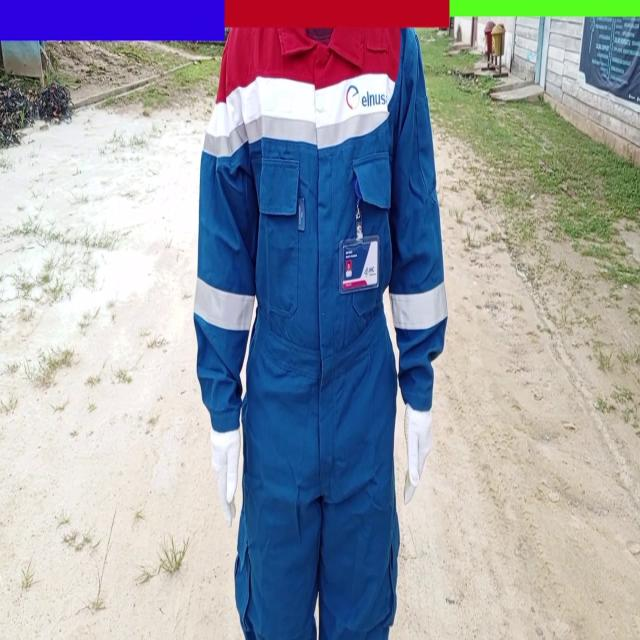Gloves: (209, 428, 241, 527), (401, 411, 432, 507)
Overall Suit: (192, 38, 446, 640)
